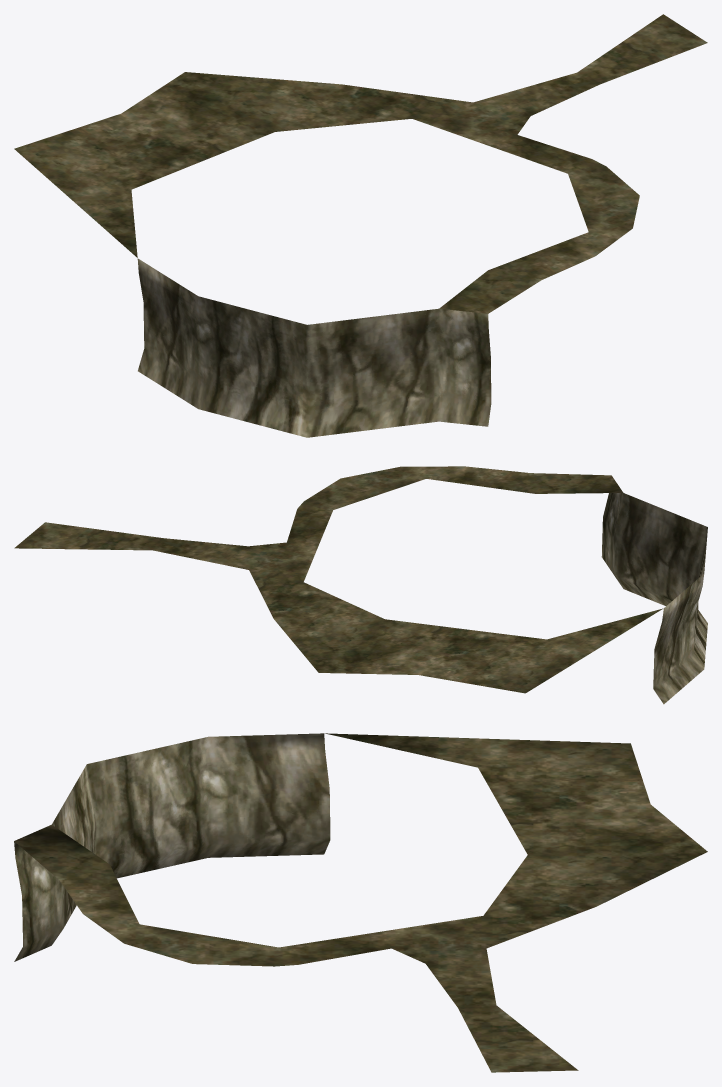
File: CB_NEWPLAYSURFACE_CB_PLAYSURFACE28.fbx
3 views of the same model, one above another, from view 1: azimuth 30°, elevation 25°; view 2: azimuth 150°, elevation 25°; view 3: azimuth 270°, elevation 25° (orthographic). The views are drawn at different scales.
Visible parts, largest first — view 1: CB_NEWPLAYSURFACE_CB_PLAYSURFACE28; view 2: CB_NEWPLAYSURFACE_CB_PLAYSURFACE28; view 3: CB_NEWPLAYSURFACE_CB_PLAYSURFACE28.
Part boxes in pixels (box(x1,y1,x2,y2)): CB_NEWPLAYSURFACE_CB_PLAYSURFACE28: box(14, 14, 707, 437); CB_NEWPLAYSURFACE_CB_PLAYSURFACE28: box(14, 466, 707, 704); CB_NEWPLAYSURFACE_CB_PLAYSURFACE28: box(14, 733, 707, 1072).
Size of the model in its own units: 240306 by 40000 by 207772.
2 materials, 2 textured.
